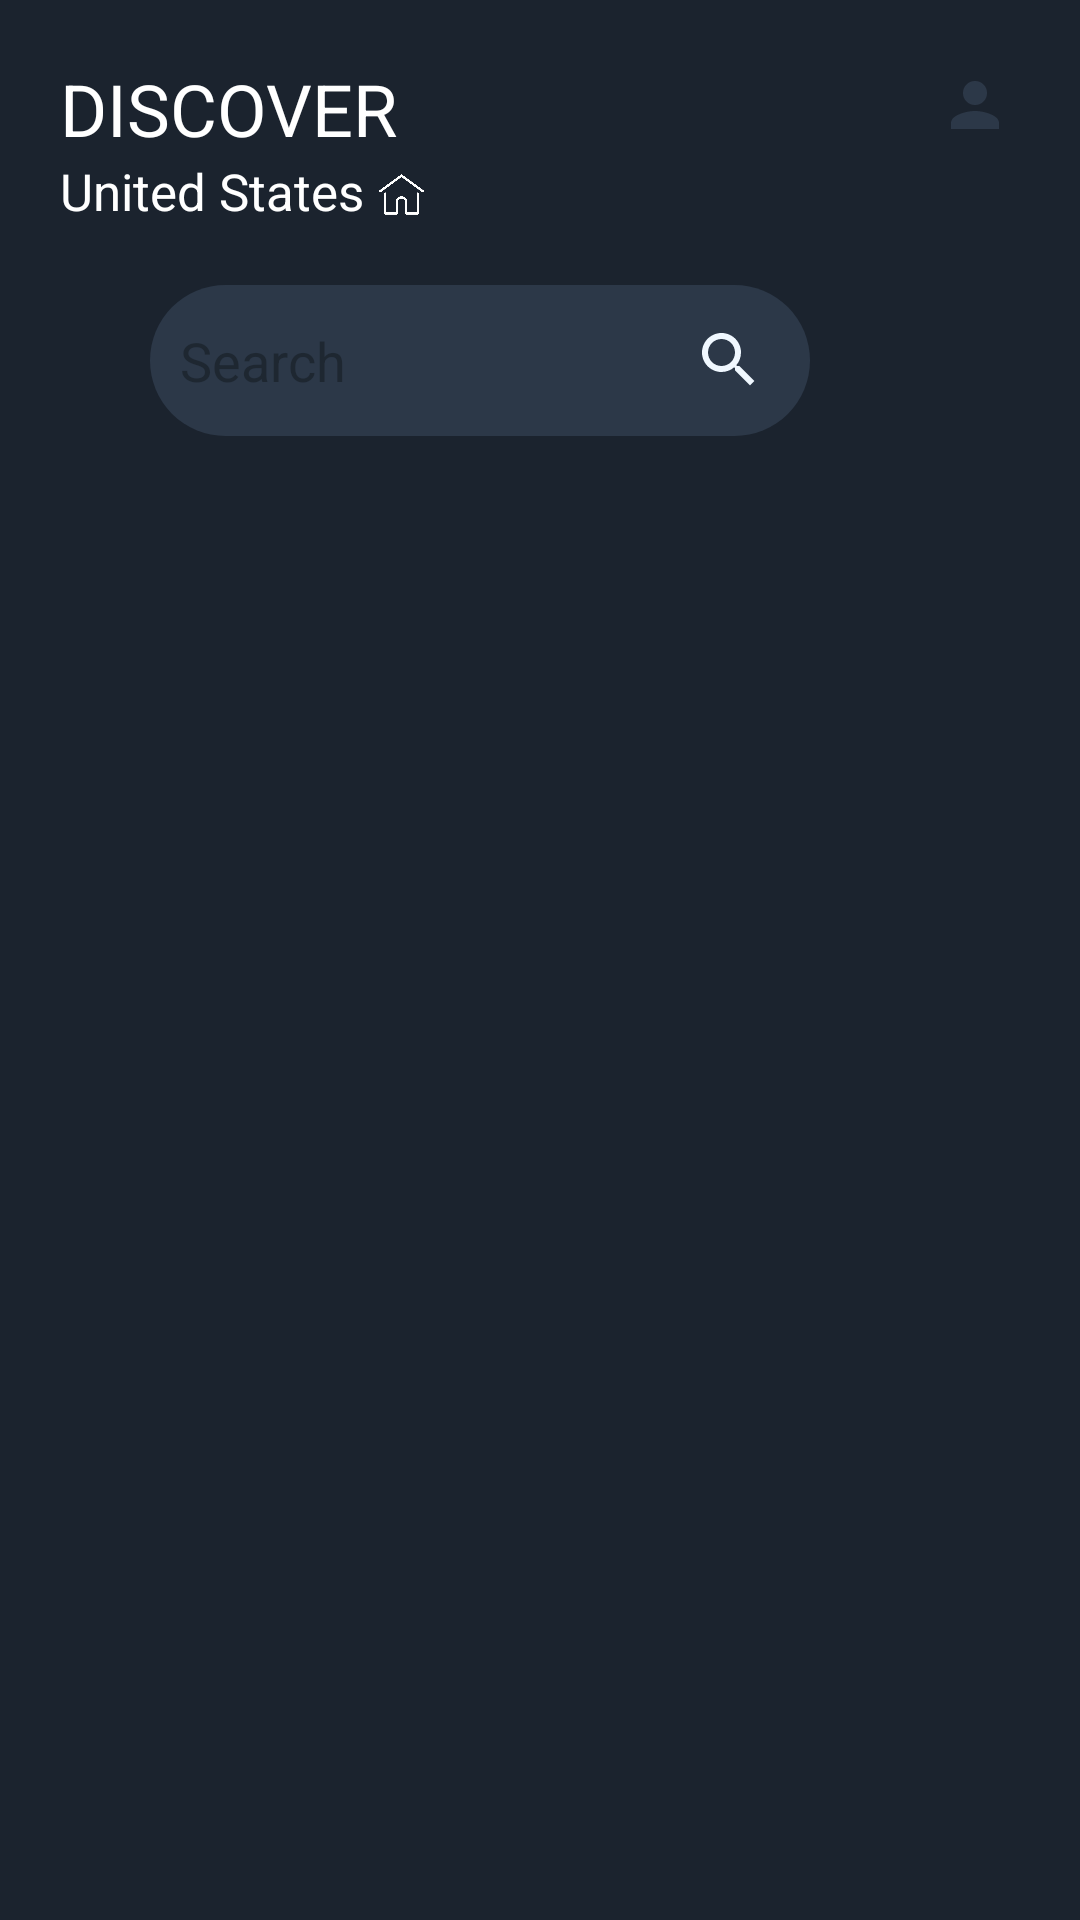

Icons on this 1080×1920 Android screen, each with its box as (x1, y1, x2, y2):
home: (379, 174, 424, 215)
person: (951, 81, 999, 129)
